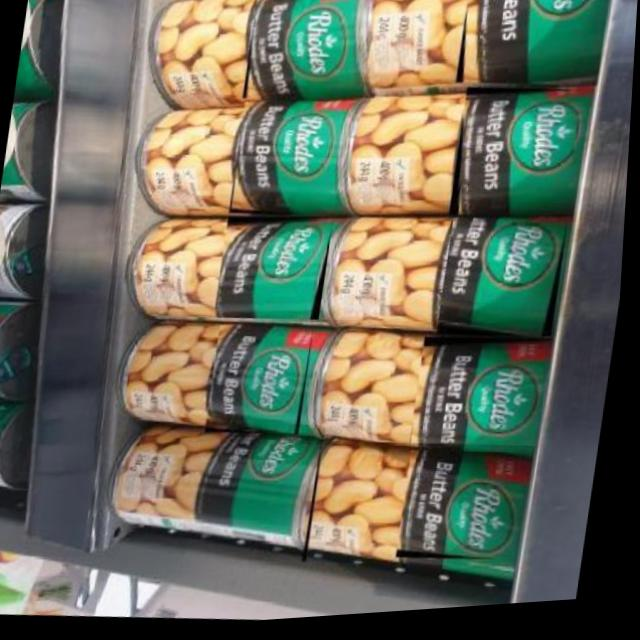Beans: (187, 422, 329, 574), (448, 88, 584, 233), (410, 337, 554, 463), (438, 217, 570, 352), (399, 451, 537, 576), (452, 0, 611, 103), (240, 0, 378, 113), (227, 98, 345, 226), (213, 213, 335, 332), (206, 324, 317, 445)
